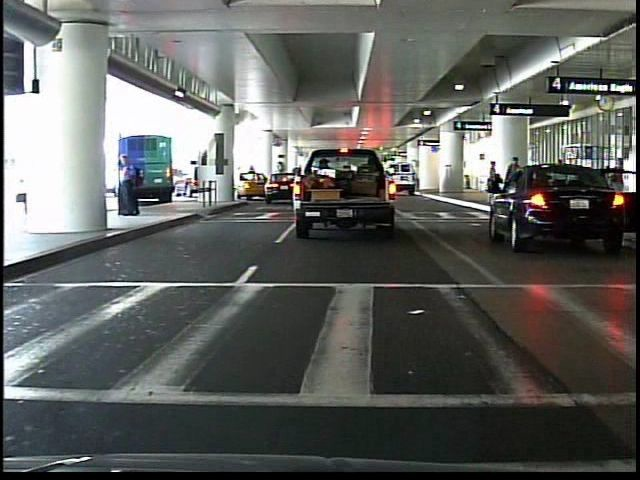person: (116, 151, 144, 219)
